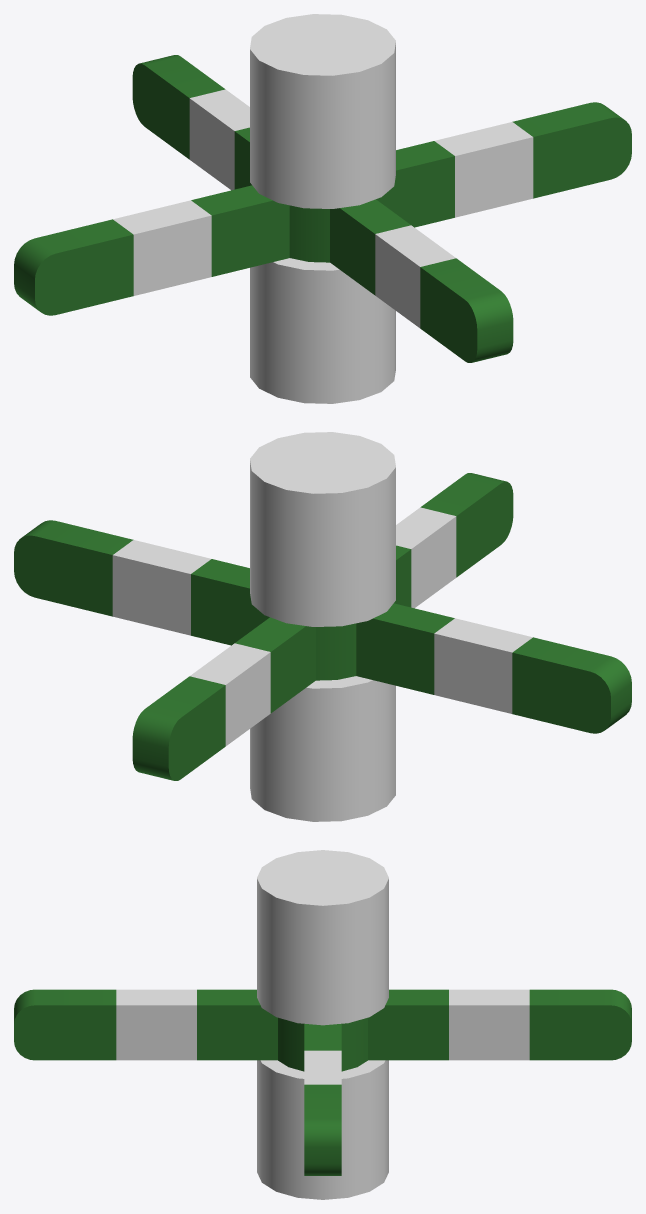
The model's file is Blades A Small.fbx.
3 renders of one model, top to bottom at view 1: azimuth 30°, elevation 25°; view 2: azimuth 150°, elevation 25°; view 3: azimuth 270°, elevation 25°, orthographic. The views are drawn at different scales.
Parts seen in each view (by area): view 1: Blades A Small, Blades A Small.001; view 2: Blades A Small, Blades A Small.001; view 3: Blades A Small, Blades A Small.001.
Boxes of the visible parts, box(x1,y1,x2,y2) form: Blades A Small: box(14, 55, 631, 362); Blades A Small.001: box(250, 14, 395, 403); Blades A Small: box(14, 473, 631, 780); Blades A Small.001: box(250, 432, 395, 821); Blades A Small: box(14, 989, 631, 1175); Blades A Small.001: box(257, 850, 388, 1199).
Size of the model in its own units: 200 by 105 by 200.
